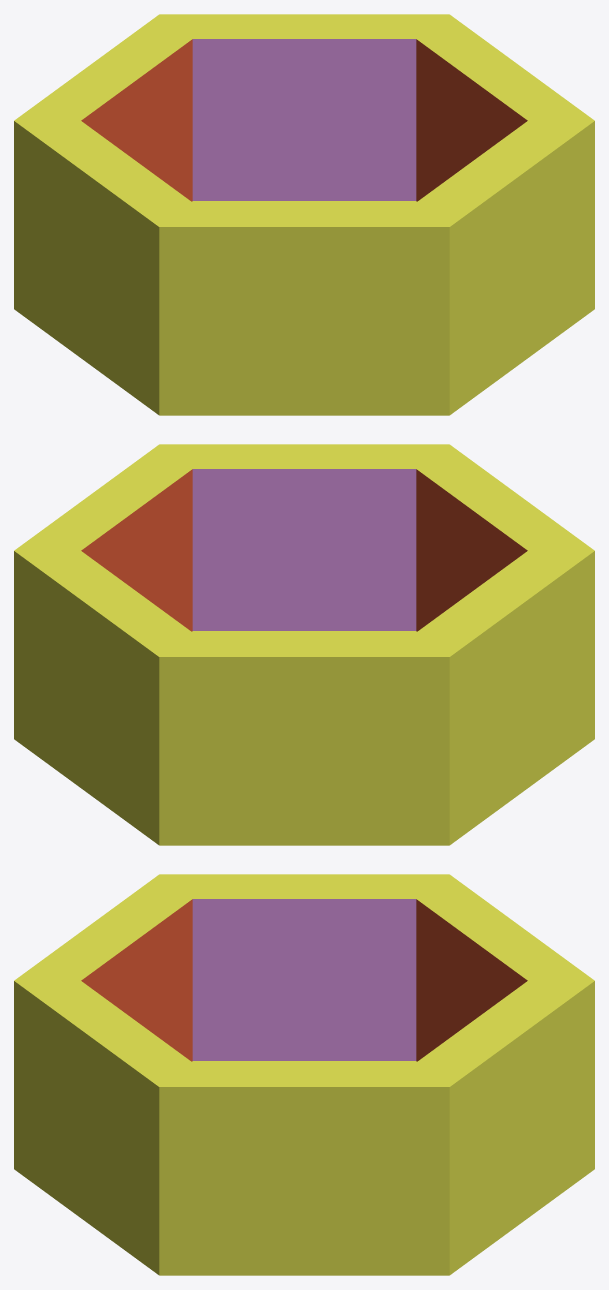
File: room.glb
The picture shows the model from 3 angles, top to bottom: view 1: azimuth 30°, elevation 25°; view 2: azimuth 150°, elevation 25°; view 3: azimuth 270°, elevation 25°; orthographic projection.
Parts seen in each view (by area): view 1: Cylinder; view 2: Cylinder; view 3: Cylinder.
Boxes of the visible parts, bbox=[...] form: Cylinder: bbox=[14, 14, 594, 415]; Cylinder: bbox=[14, 444, 594, 845]; Cylinder: bbox=[14, 874, 594, 1275].
Bounding box in the file's own units: 6.93 × 2.86 × 8.
